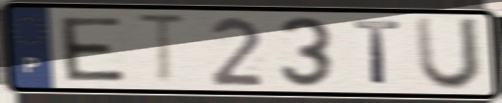2: (205, 13, 267, 88)
3: (276, 15, 338, 90)
E: (56, 15, 129, 84)
T: (133, 11, 191, 89), (351, 18, 404, 89)
U: (412, 14, 484, 94)
